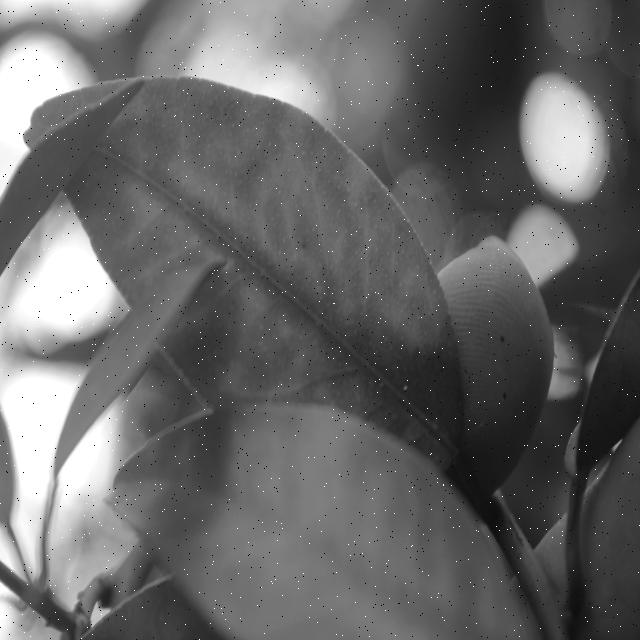blackspot: (257, 198, 357, 329)
